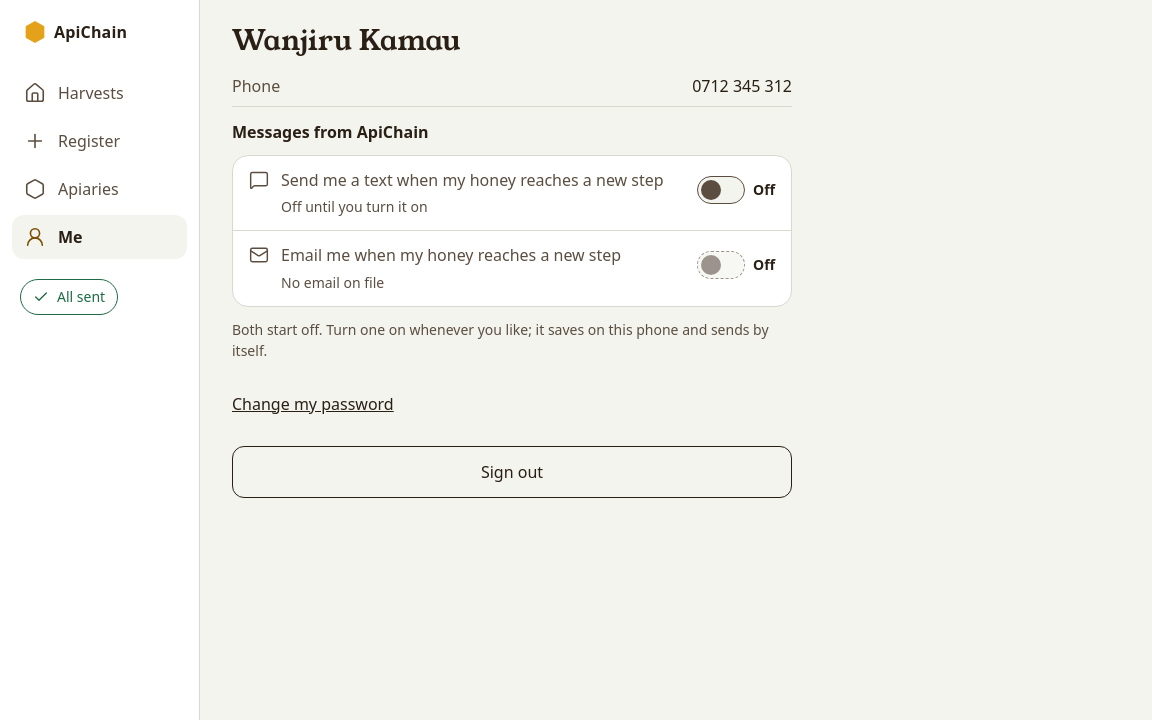
Test: the farmer's own message choices › turning texts on queues one consent.record in the wording shown, and it sends
Click the switch named "Send me a text when my honey reaches a new step" in the row of "Off until you turn it on" at {"x": 721, "y": 190}, box [697,168,745,212]
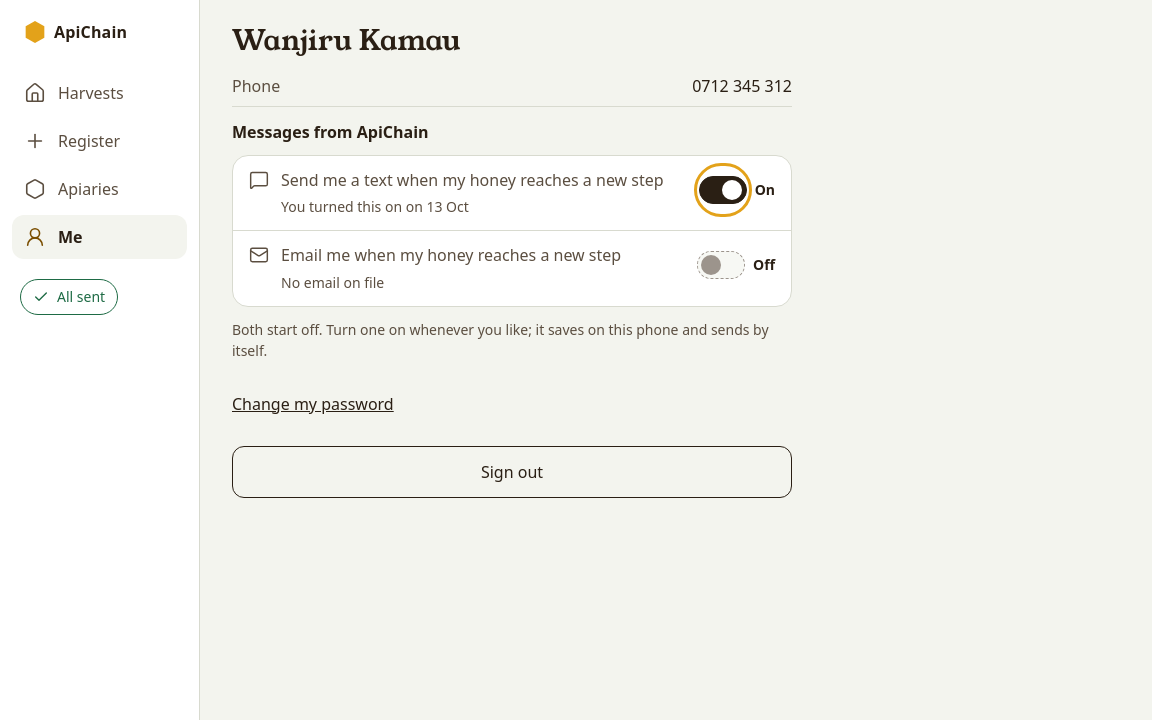
Check: the text "You turned this on on 13 Oct" is shown, box [281,197,469,216]
